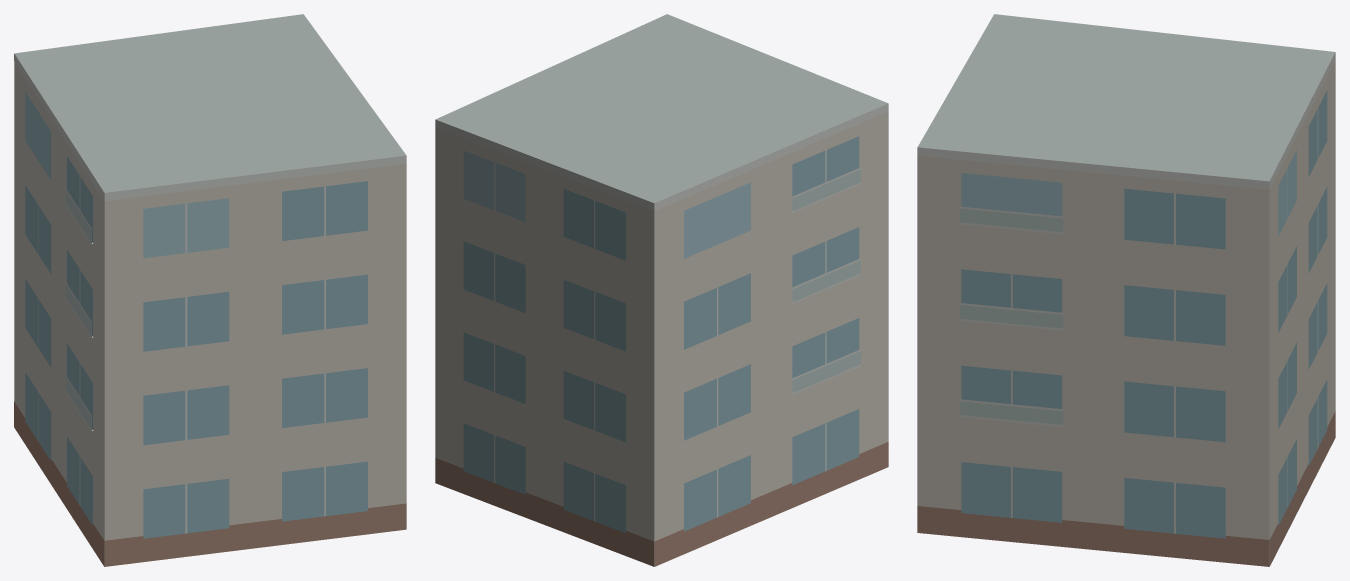
File: survey-upis-32528409.glb
3 views of the same model, side by side, from view 1: azimuth 30°, elevation 25°; view 2: azimuth 150°, elevation 25°; view 3: azimuth 270°, elevation 25° (orthographic). The views are drawn at different scales.
Parts seen in each view (by area): view 1: survey-upis-32528409.tmp; view 2: survey-upis-32528409.tmp; view 3: survey-upis-32528409.tmp.
Part boxes in pixels (x1=…): survey-upis-32528409.tmp: x1=14, y1=14, x2=406, y2=566; survey-upis-32528409.tmp: x1=435, y1=14, x2=888, y2=566; survey-upis-32528409.tmp: x1=917, y1=14, x2=1335, y2=566.
Bounding box in the file's own units: 10.48 × 11.25 × 11.07.
